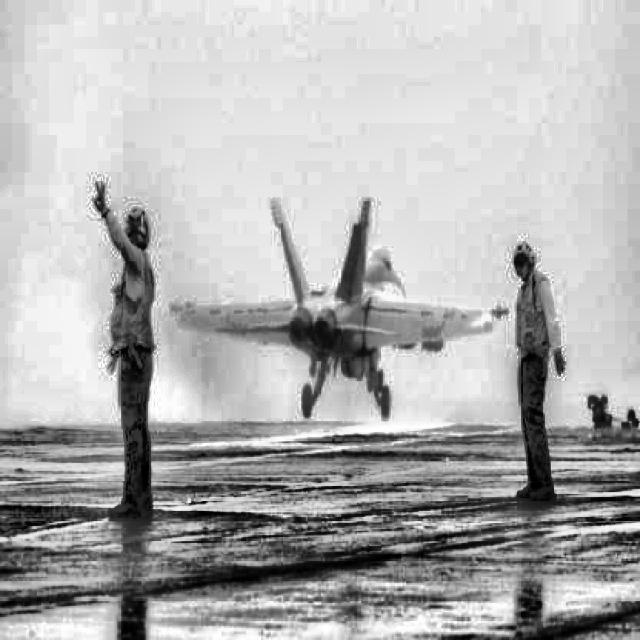F18: (168, 198, 510, 419)
